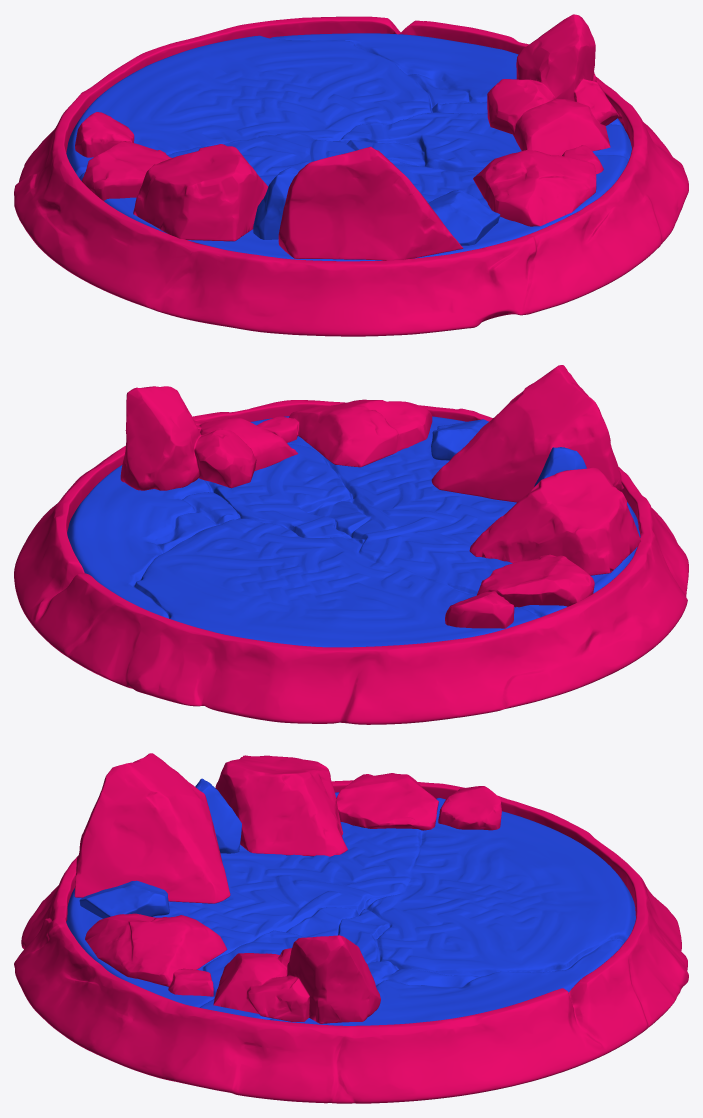
The model's file is platform.fbx.
3 renders of one model, top to bottom at view 1: azimuth 30°, elevation 25°; view 2: azimuth 150°, elevation 25°; view 3: azimuth 270°, elevation 25°, orthographic.
Visible parts, largest first — view 1: platform; view 2: platform; view 3: platform.
Part boxes in pixels (x1,y1,x2,y2): platform: [14, 14, 688, 336]; platform: [14, 365, 688, 724]; platform: [14, 753, 688, 1103].
Bounding box in the file's own units: 523 × 136 × 522.
